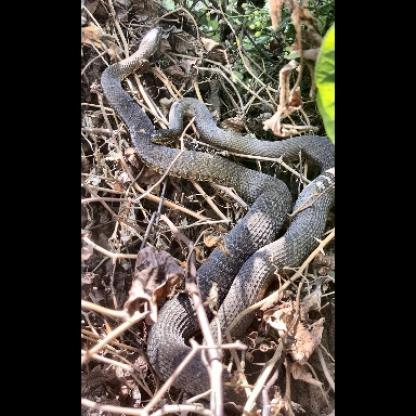Snake: (118, 26, 324, 395), (99, 5, 321, 196)
